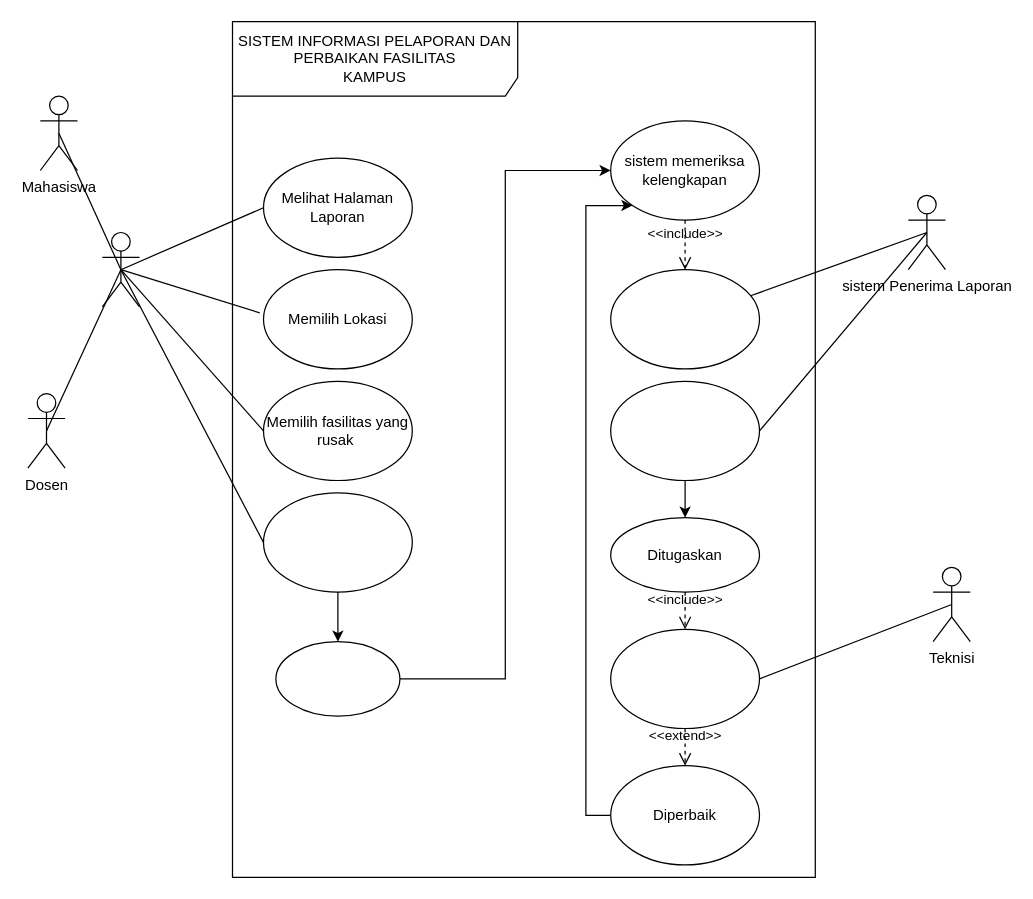
Some shapes in this 1033 by 899 pixel diagram are drawn without their labels. The centre of each missing label's shape, as x and y in pixels:
"laporan diterima" belongs at point 684,430.
"Melaporkan" belongs at point 337,678.
"Menerima laporan" belongs at point 684,318.
"Menyampaikan fasilitas yang rusak" belongs at point 337,542.
"Pelapor" belongs at point 120,269.
"Teknisi mencatat perbaikan yang dilakukan" belongs at point 684,678.
